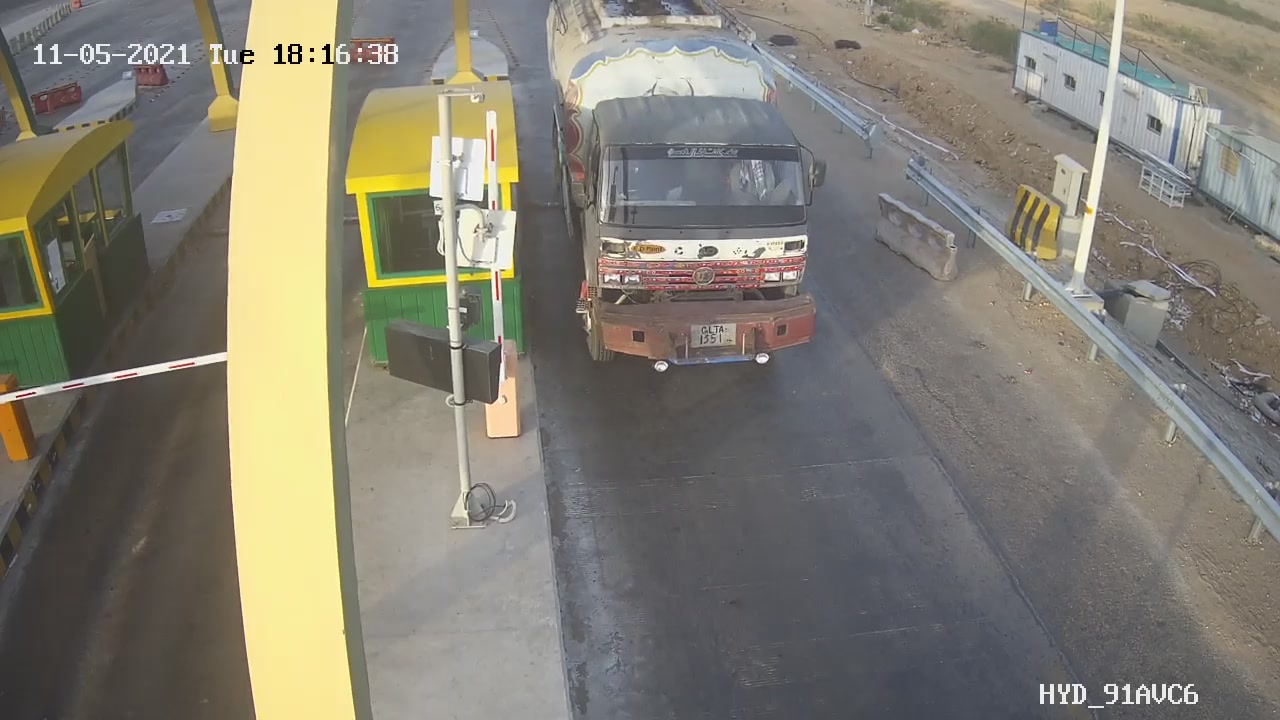F6: (545, 8, 840, 382)
